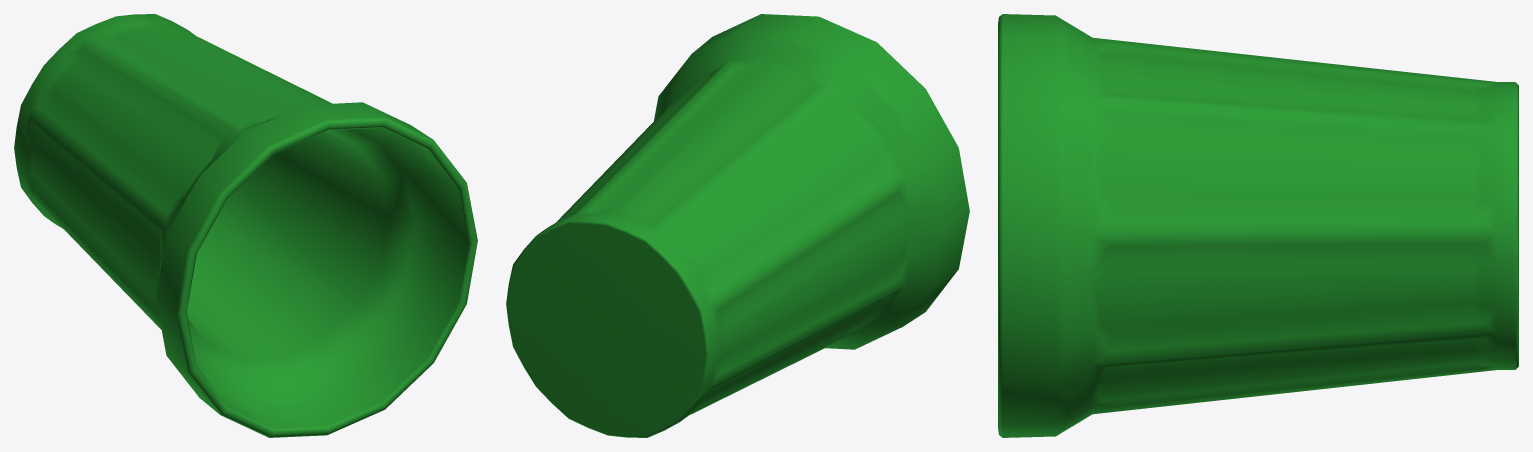
The model's file is MeshCup_14_0_GeomSubset_0.obj.
The picture shows the model from 3 angles, left to right: view 1: azimuth 30°, elevation 25°; view 2: azimuth 150°, elevation 25°; view 3: azimuth 270°, elevation 25°; orthographic projection. The views are drawn at different scales.
Visible parts, largest first — view 1: MeshCup_14_0_GeomSubset_0; view 2: MeshCup_14_0_GeomSubset_0; view 3: MeshCup_14_0_GeomSubset_0.
Part boxes in pixels (box(x1,y1,x2,y2)): MeshCup_14_0_GeomSubset_0: box(14, 14, 477, 437); MeshCup_14_0_GeomSubset_0: box(506, 14, 969, 437); MeshCup_14_0_GeomSubset_0: box(998, 14, 1518, 437).
Bounding box in the file's own units: 0.1241 × 0.1241 × 0.1528.
